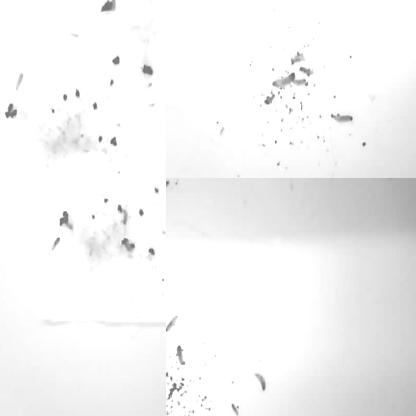PtecticusTenebrifer: (271, 72, 295, 89), (254, 372, 267, 393), (14, 69, 25, 92), (166, 314, 178, 334), (50, 235, 62, 252), (176, 344, 185, 366), (332, 114, 353, 123), (166, 359, 175, 378), (0, 128, 7, 147), (63, 222, 76, 232), (166, 223, 172, 244), (69, 31, 81, 41), (270, 0, 289, 6), (166, 348, 174, 361), (166, 403, 174, 416), (123, 209, 128, 229), (166, 179, 173, 192), (166, 358, 173, 370), (166, 287, 173, 299), (166, 320, 169, 344), (332, 178, 344, 184), (166, 346, 173, 356), (312, 0, 325, 5), (0, 232, 3, 253), (345, 178, 360, 182), (219, 178, 232, 182), (166, 379, 168, 401), (166, 403, 168, 416), (166, 178, 171, 183)
